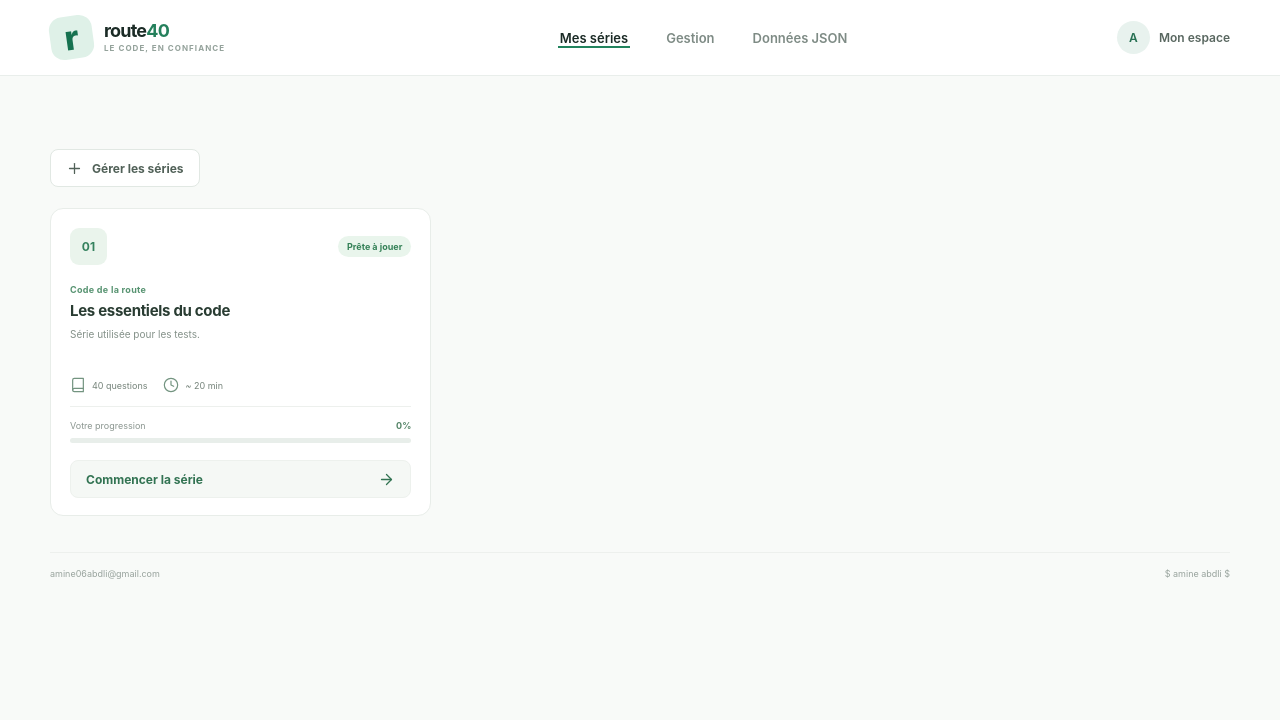
displays saved series and progress as JSON
This screenshot has width=1280, height=720.
Click the button "Données JSON": (800, 38) [751,28,850,48]
(page scrolled)
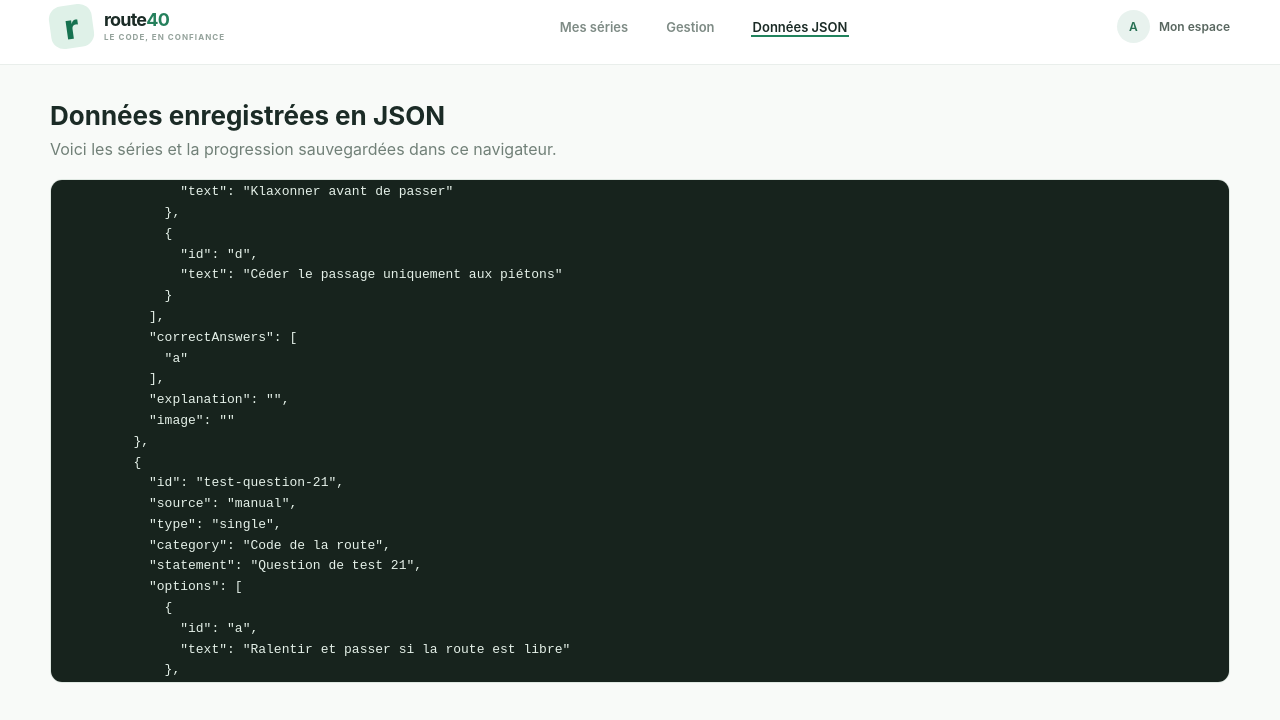
Expected: the heading "Données enregistrées en JSON" is shown, [50,100,445,131]
